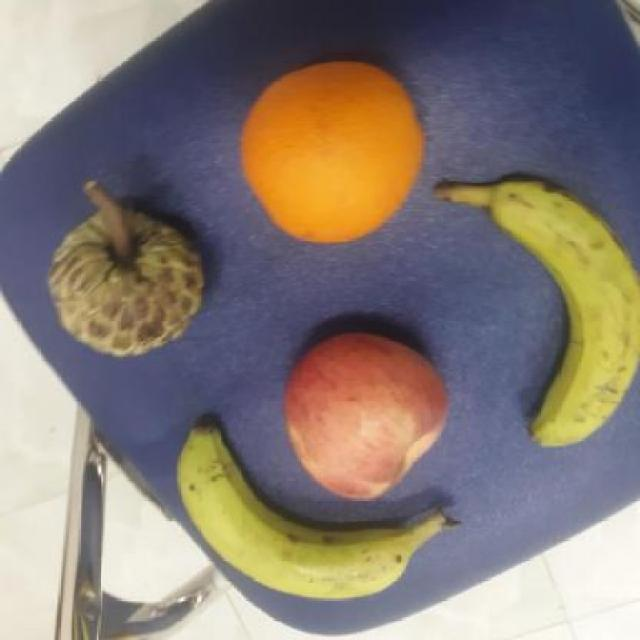apple: (280, 314, 449, 503)
banana: (160, 428, 458, 608), (467, 162, 639, 460)
oren: (241, 58, 427, 250)
sugar apple: (46, 179, 208, 356)
